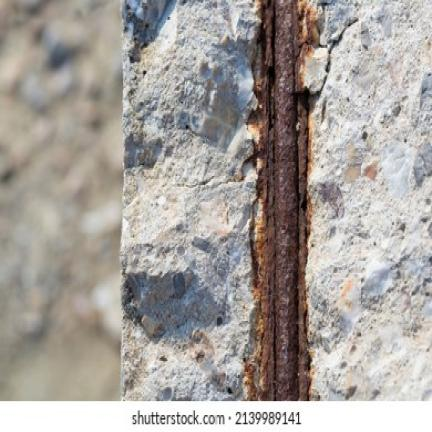karat: (261, 0, 312, 401)
